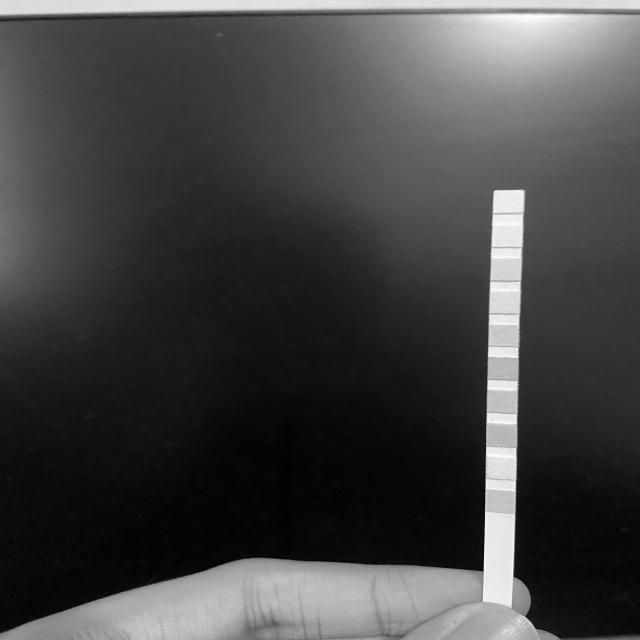Bilirubin: (486, 457, 516, 479)
Blood: (488, 358, 518, 379)
Glucose: (486, 491, 515, 512)
Ketone: (486, 424, 516, 446)
Leukocytes: (493, 190, 524, 212)
Nitrite: (492, 226, 522, 247)
Protein: (490, 292, 520, 313)
SpGravity: (487, 390, 518, 412)
Urobilinogen: (491, 259, 522, 281)
background: (0, 0, 640, 640)
pH: (488, 325, 519, 346)
strip: (484, 190, 525, 573)
